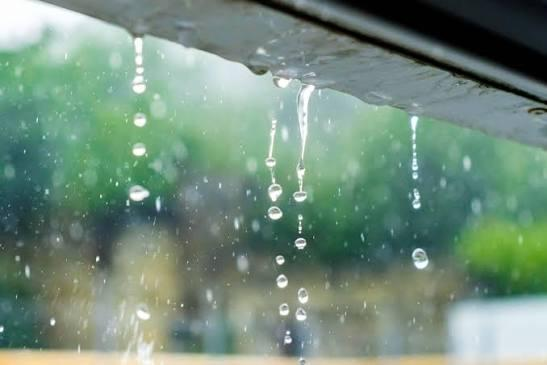water drop: (409, 111, 421, 180), (130, 33, 145, 74), (129, 182, 150, 201), (134, 300, 151, 323), (292, 187, 310, 206), (273, 74, 294, 90), (410, 188, 424, 210), (131, 77, 148, 95), (132, 112, 149, 130), (130, 141, 149, 157), (414, 248, 428, 267), (267, 184, 283, 199), (268, 204, 283, 220), (275, 272, 290, 288), (296, 286, 308, 304), (296, 236, 308, 250), (295, 306, 307, 320), (280, 304, 291, 316), (266, 156, 276, 168), (275, 255, 286, 265)
